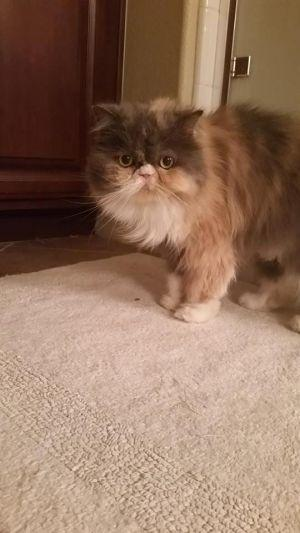persian: (77, 91, 220, 247)
